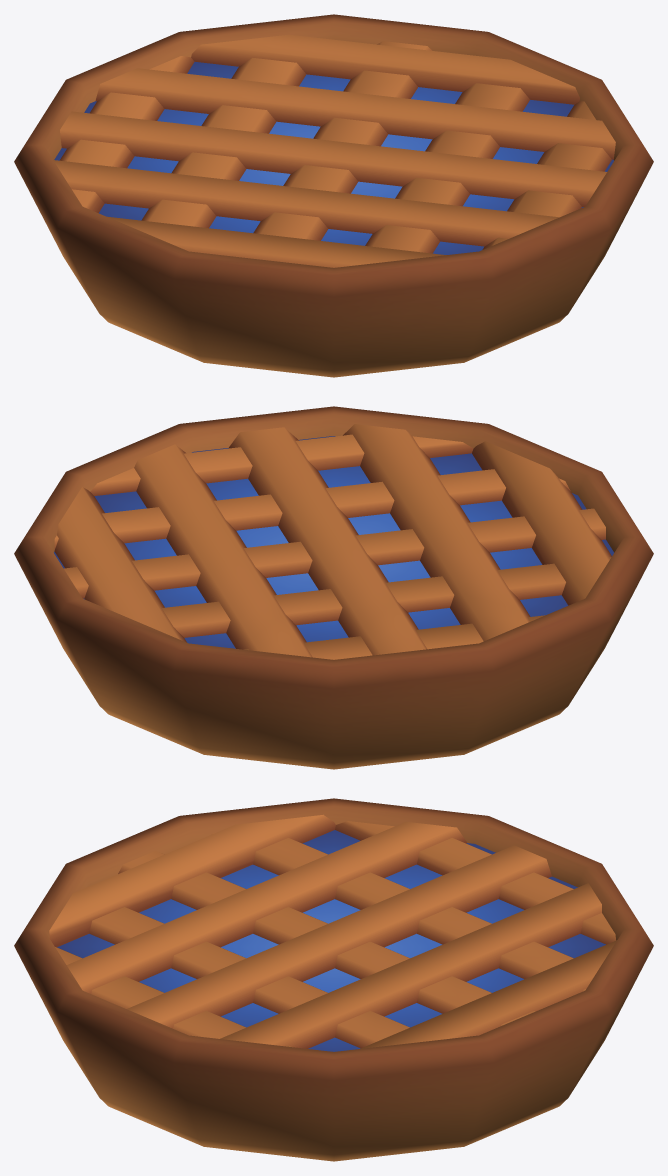
The model's file is m_AmericanPie01.fbx.
3 views of the same model, one above another, from view 1: azimuth 30°, elevation 25°; view 2: azimuth 150°, elevation 25°; view 3: azimuth 270°, elevation 25° (orthographic).
Visible parts, largest first — view 1: m_AmericanPie01; view 2: m_AmericanPie01; view 3: m_AmericanPie01.
Boxes of the visible parts, x1,y1,x2,y2 form: m_AmericanPie01: [14, 14, 653, 377]; m_AmericanPie01: [14, 406, 653, 769]; m_AmericanPie01: [14, 798, 653, 1161].
Bounding box in the file's own units: 28 × 5.91 × 28.
